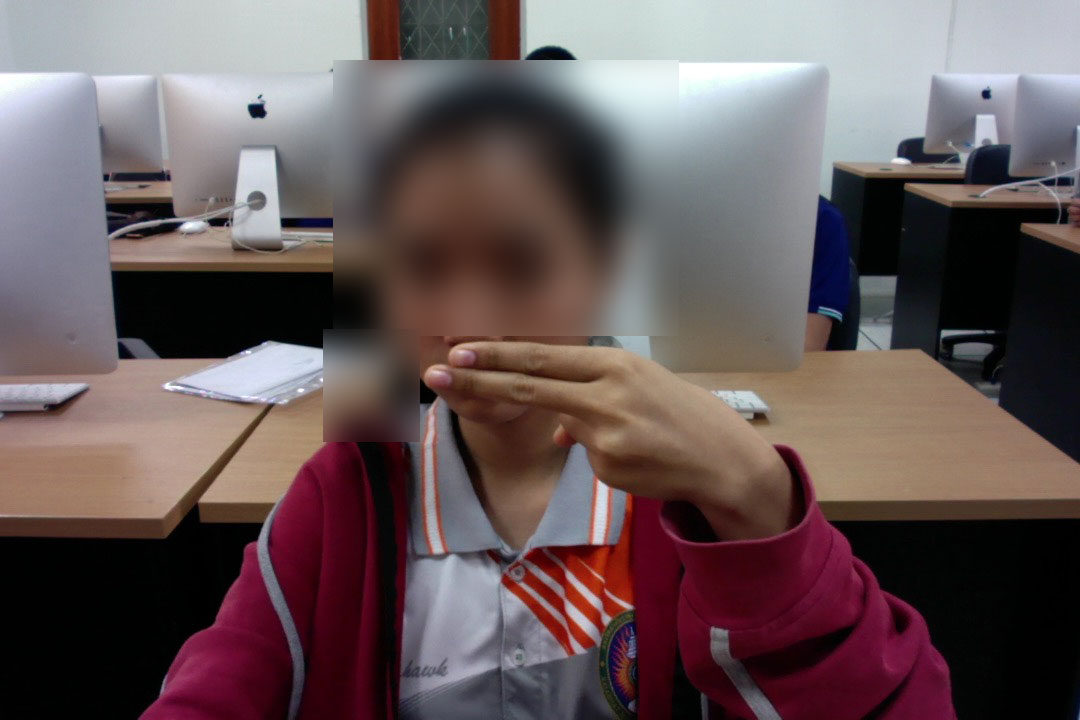hor: (412, 336, 766, 506)
